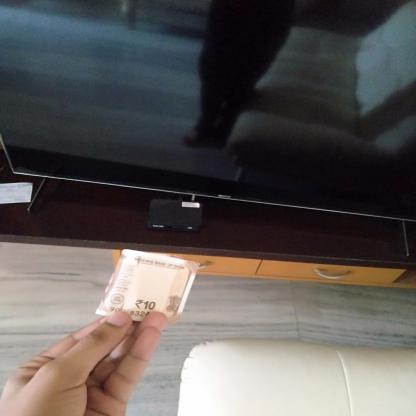New10Front: (98, 250, 194, 324)
